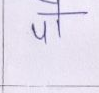au_matra: (40, 0, 68, 36)
